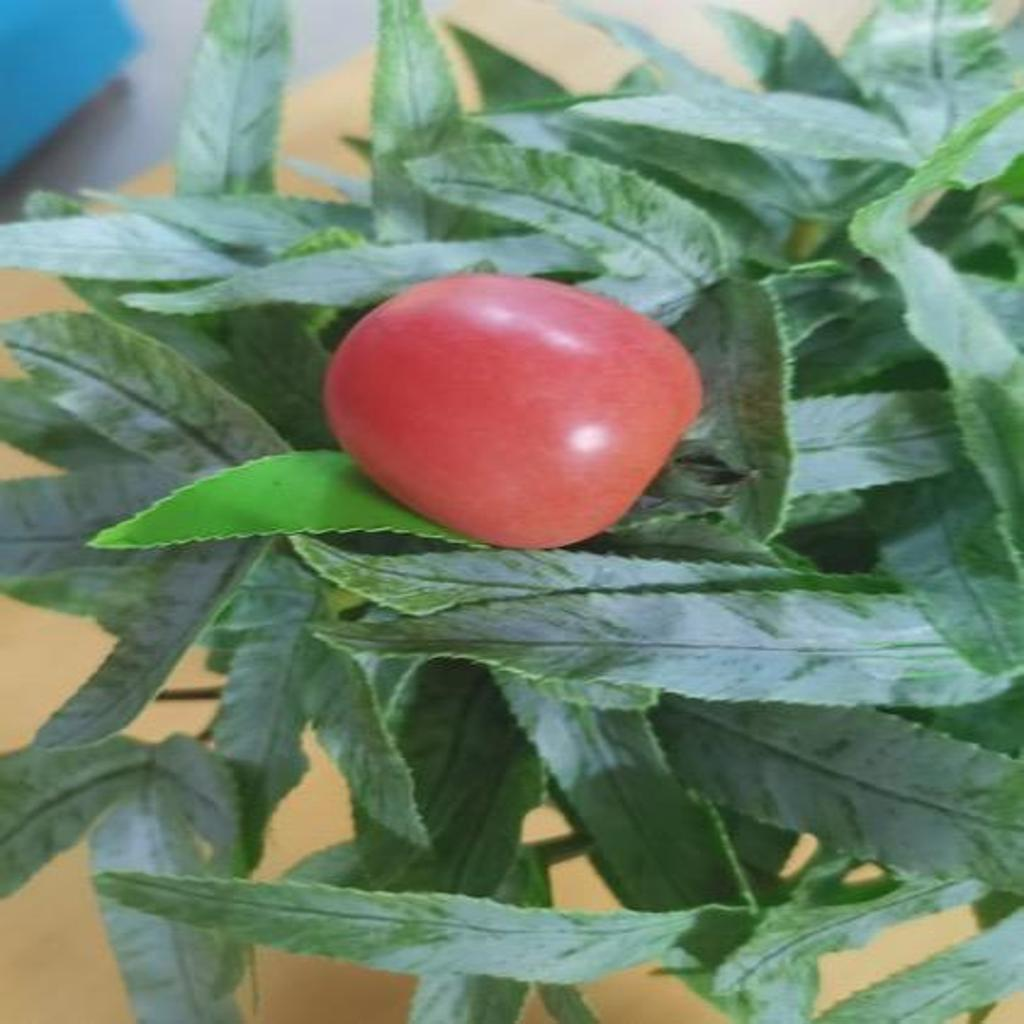tomato: (318, 260, 704, 561)
